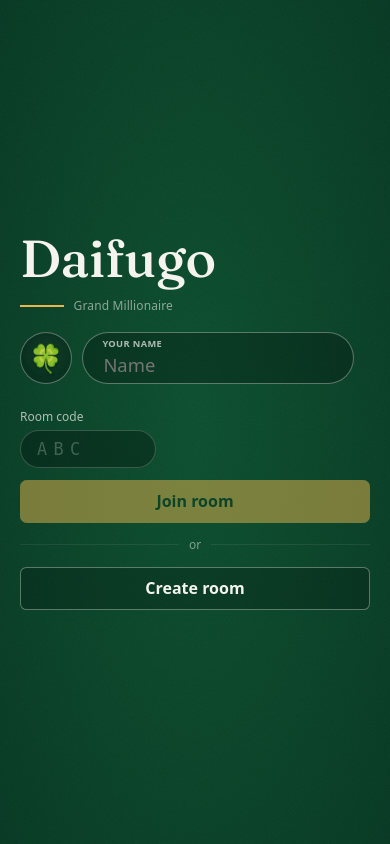
MainMenu › reports a failed room creation through a key
The image size is (390, 844).
Type "Will" into the field labelled "Your name" at {"x": 218, "y": 358}, box [82,332,354,384]
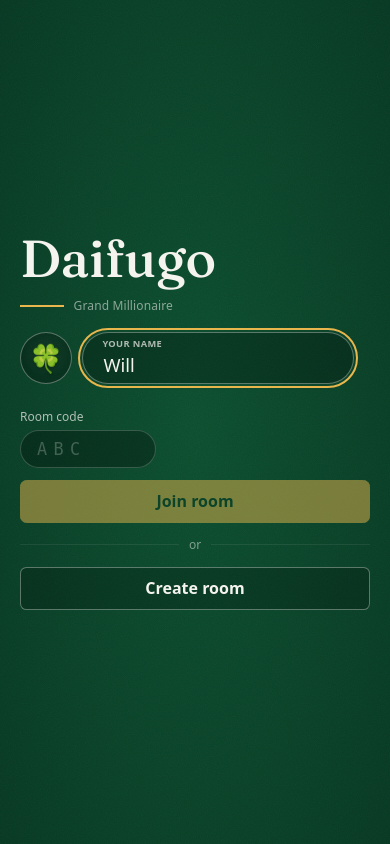
Click the button "Create room" at {"x": 195, "y": 588}, box [20,567,370,610]
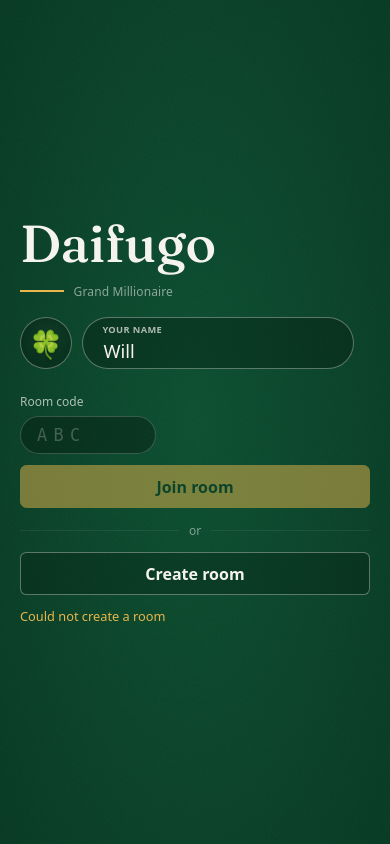
Expected: the message reads "Could not create a room", [20,607,166,625]
